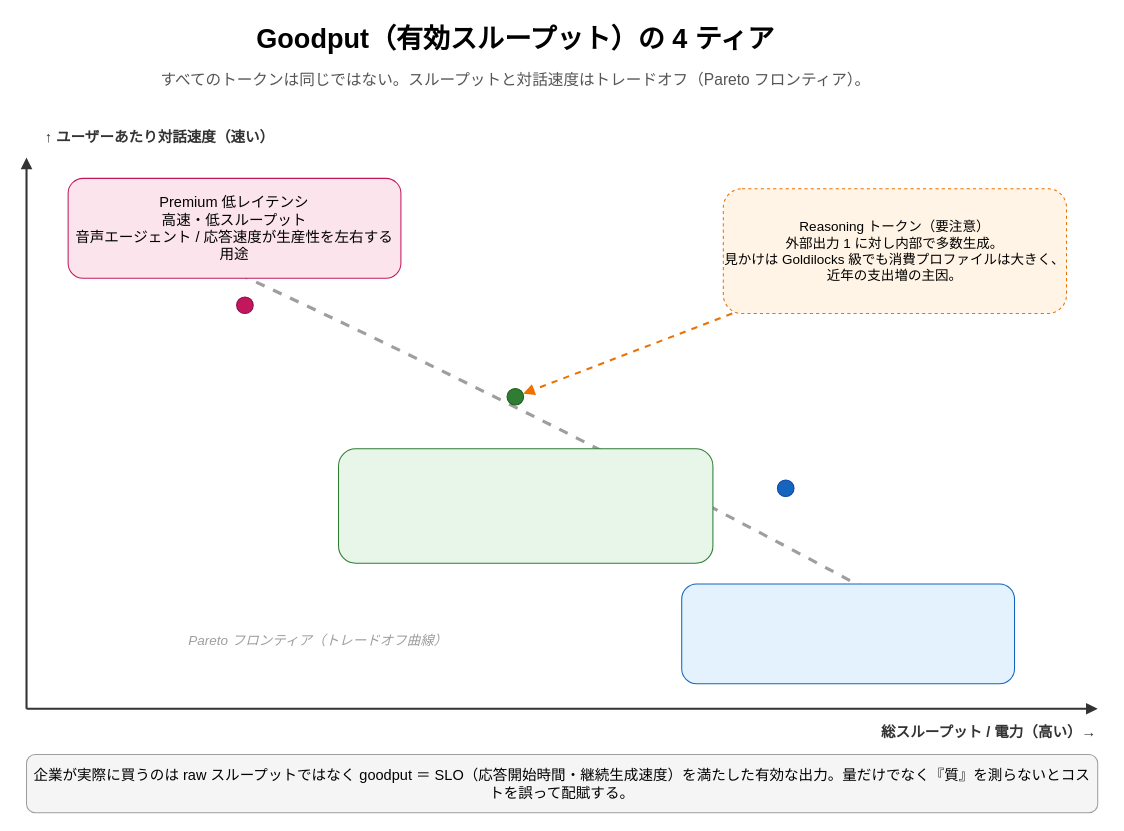
Image size: 1124x831. Some labels were removed from this diagram. Each missing label, with the centre of its shape:
Bulk トークン 高スループット・低速 バッチ要約 / 埋め込み生成 / オフライン分析: [848,633]
Goldilocks ゾーン（経済的な中心） 中程度の対話性 × ほぼ最適なスループット チャット・一般的な業務アプリ: [525,505]
